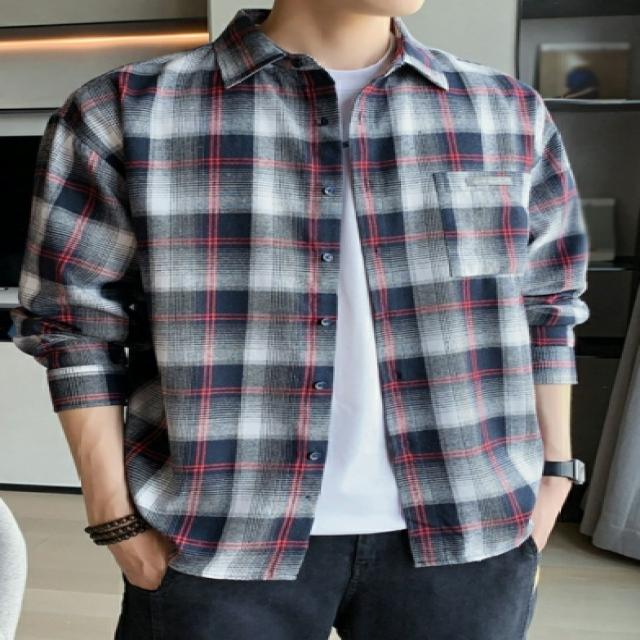plaid: (17, 52, 588, 560)
